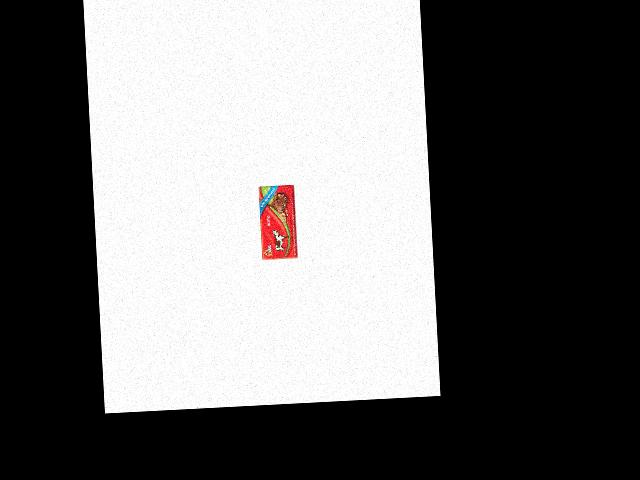chocolate: (258, 185, 297, 263)
